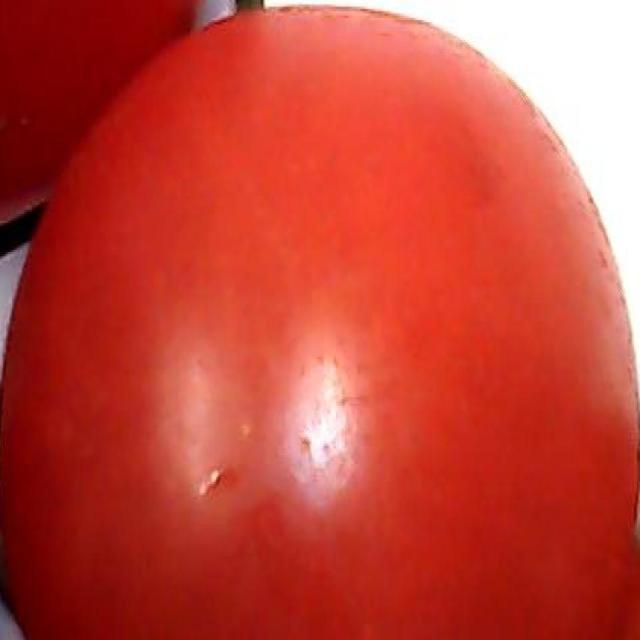Healthy Fruit: (18, 1, 426, 427)
